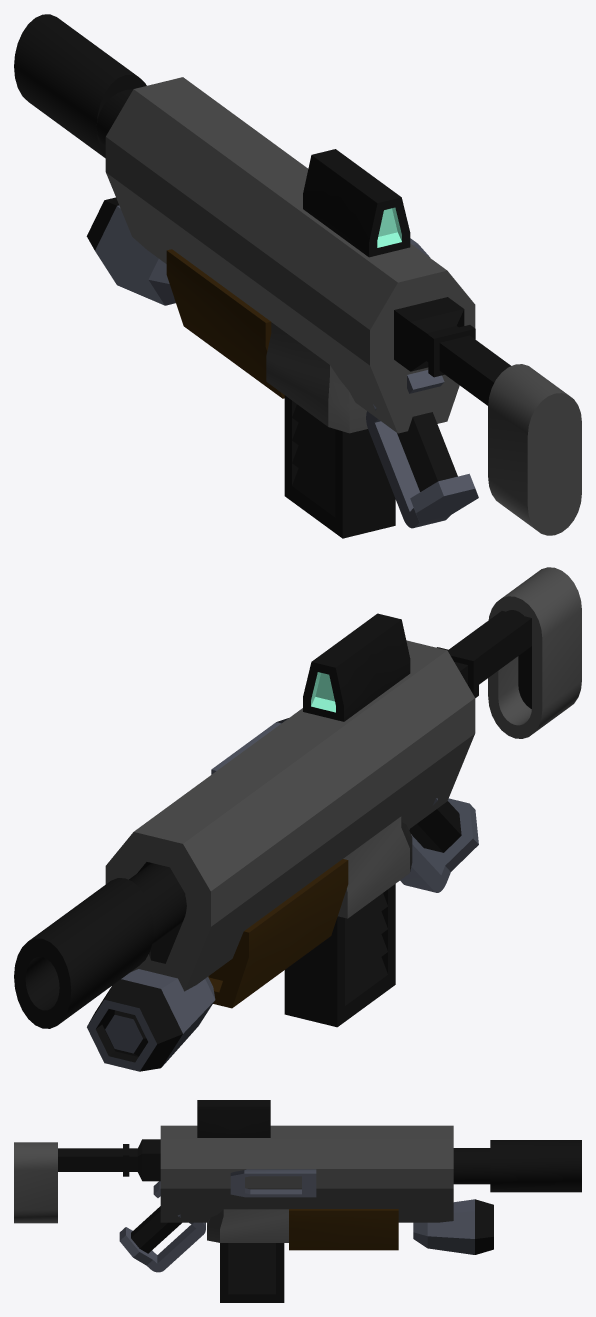
File: rifle.model.obj
3 renders of one model, top to bottom at view 1: azimuth 30°, elevation 25°; view 2: azimuth 150°, elevation 25°; view 3: azimuth 270°, elevation 25°, orthographic. The views are drawn at different scales.
Size of the model in its own units: 0.4316 by 1.16 by 3.1.
